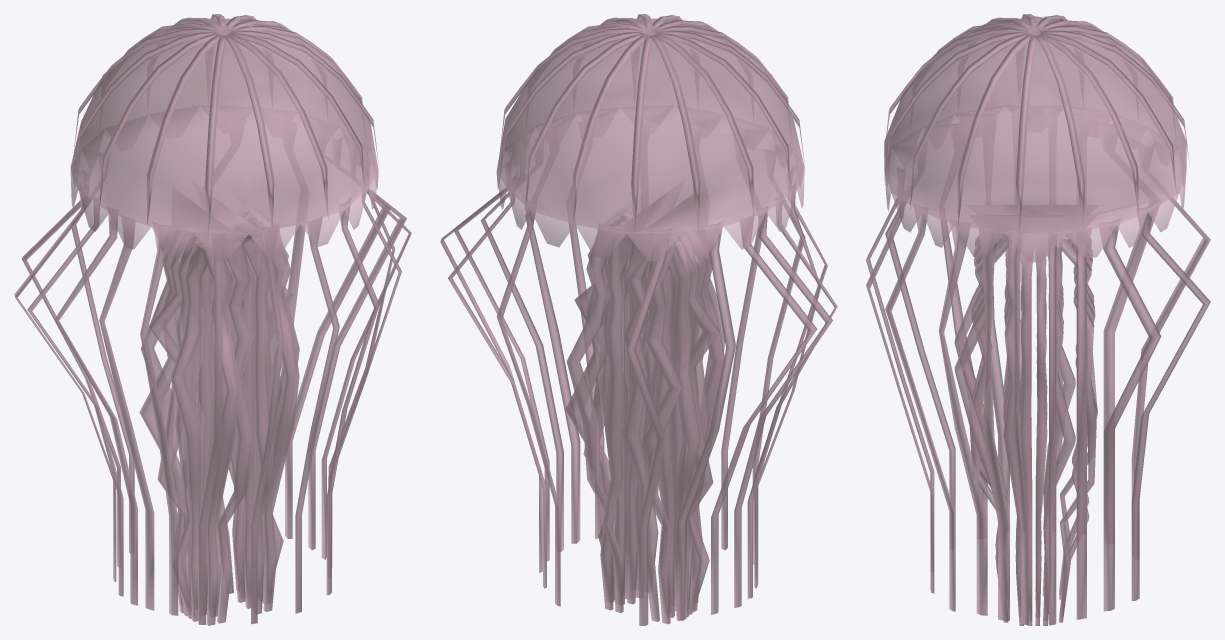
File: jellyfish.glb
3 renders of one model, left to right at view 1: azimuth 30°, elevation 25°; view 2: azimuth 150°, elevation 25°; view 3: azimuth 270°, elevation 25°, orthographic.
Visible parts, largest first — view 1: jellyfish; view 2: jellyfish; view 3: jellyfish.
Boxes of the visible parts, x1,y1,x2,y2 form: jellyfish: [14, 14, 411, 625]; jellyfish: [440, 14, 837, 625]; jellyfish: [866, 14, 1210, 625].
Size of the model in its own units: 0.4483 by 0.65 by 0.3535.
